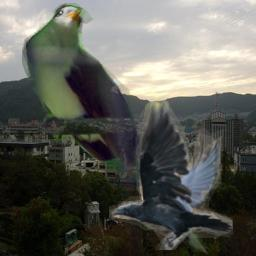Crow: (109, 97, 233, 250)
Cuckoo: (22, 3, 218, 256)
